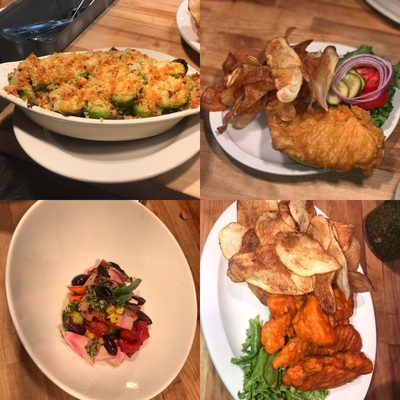sandwich: (51, 0, 118, 52)
sushi: (4, 201, 199, 400), (0, 47, 200, 141)
